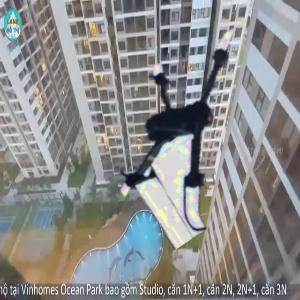drone: (93, 25, 290, 222)
